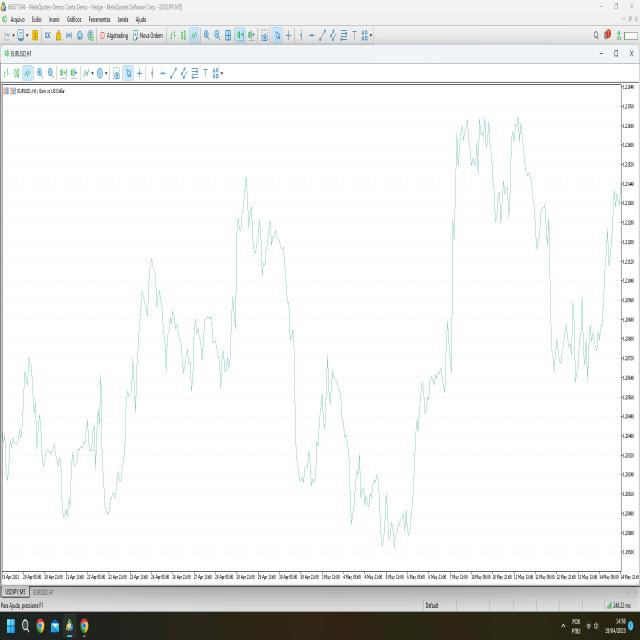bandeira_alta: (408, 350, 448, 532)
oco: (130, 245, 166, 349)
topo_duplo: (215, 161, 306, 416), (474, 110, 540, 279), (440, 107, 500, 224)
